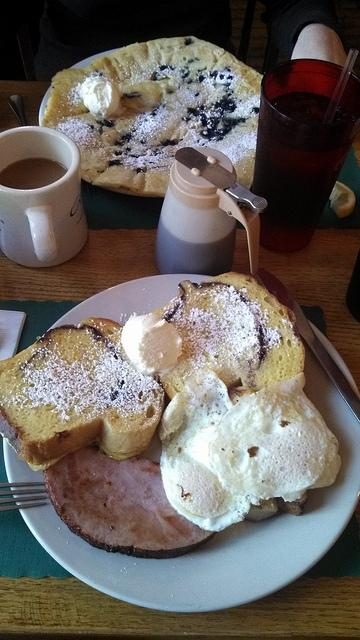lemon: (328, 180, 356, 218)
